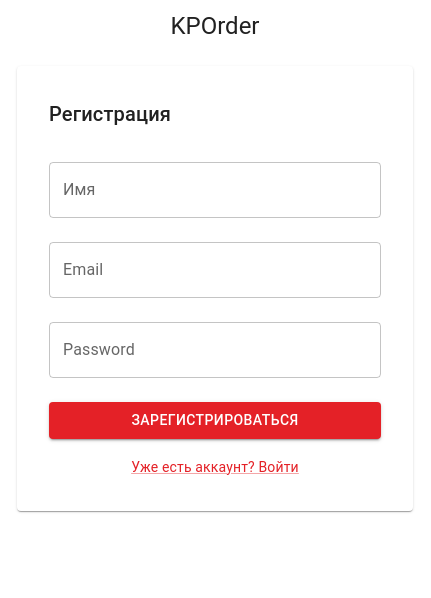
RegisterPage › shows validation errors for empty fields
Click the button "Зарегистрироваться". click: (215, 420)
box: [49,402,381,438]
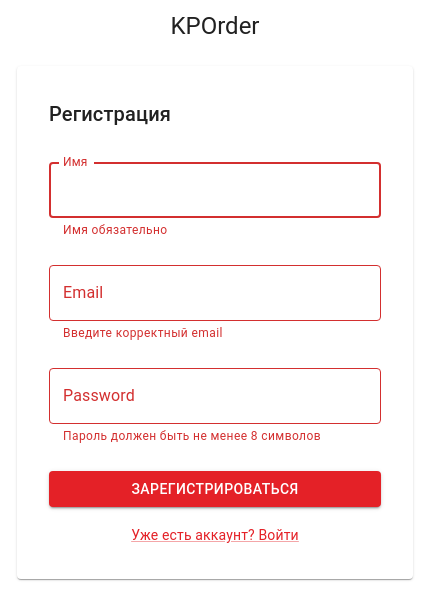
Check: the text "Имя обязательно" is shown, box [63,223,168,237]
